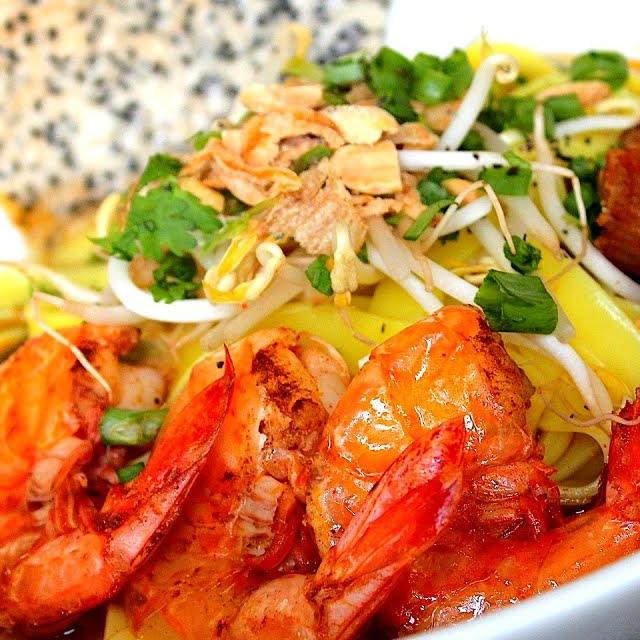banh da: (0, 0, 409, 226)
mi: (0, 181, 640, 525), (447, 34, 640, 181)
tom: (102, 321, 471, 640), (300, 299, 640, 640), (0, 315, 238, 640)
